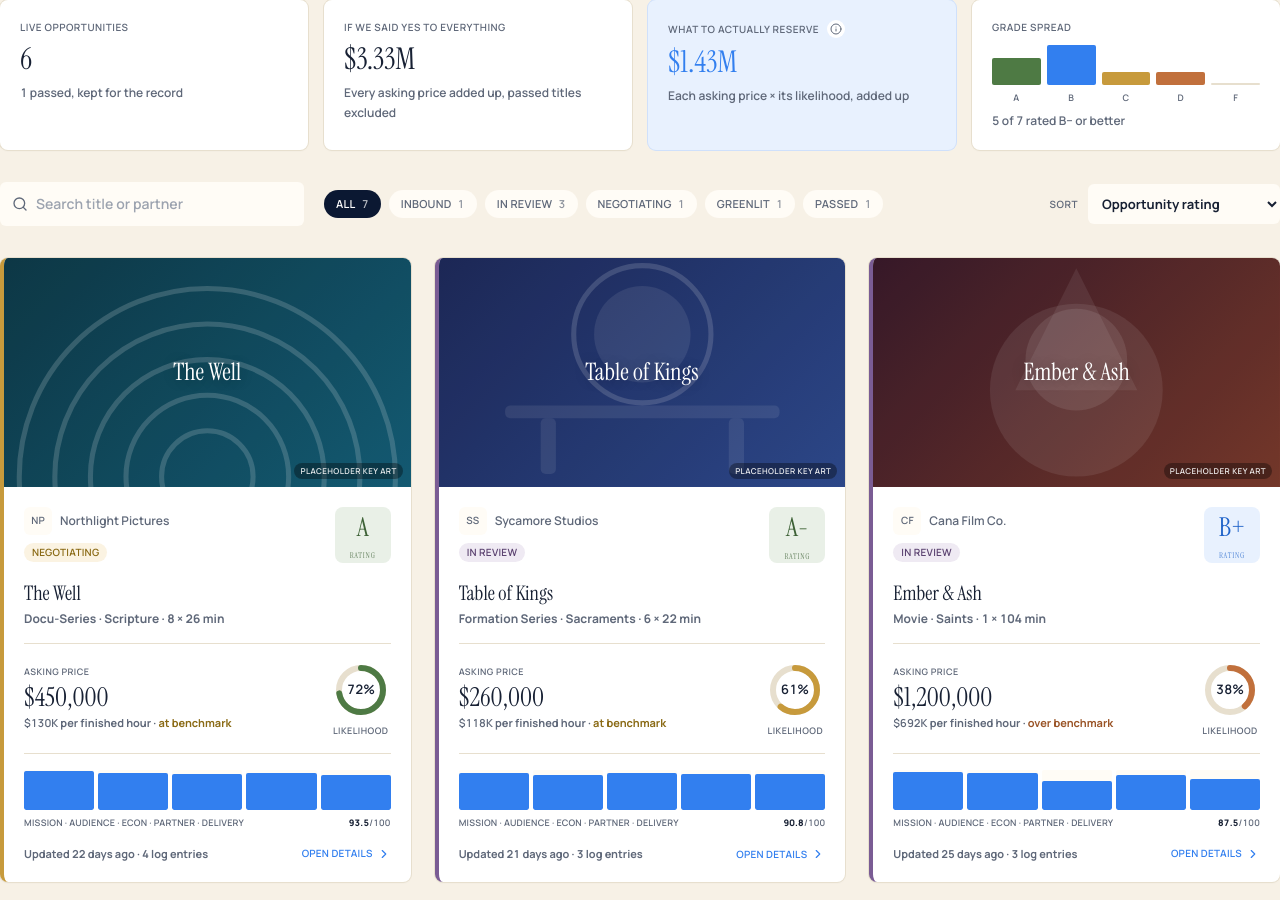
it: CoproductionSlate › opens one opportunity as a pop-out carrying its grade and reasoning
Click the button with aria-label "Open details for Table of Kings": (642, 570) [439, 258, 845, 882]
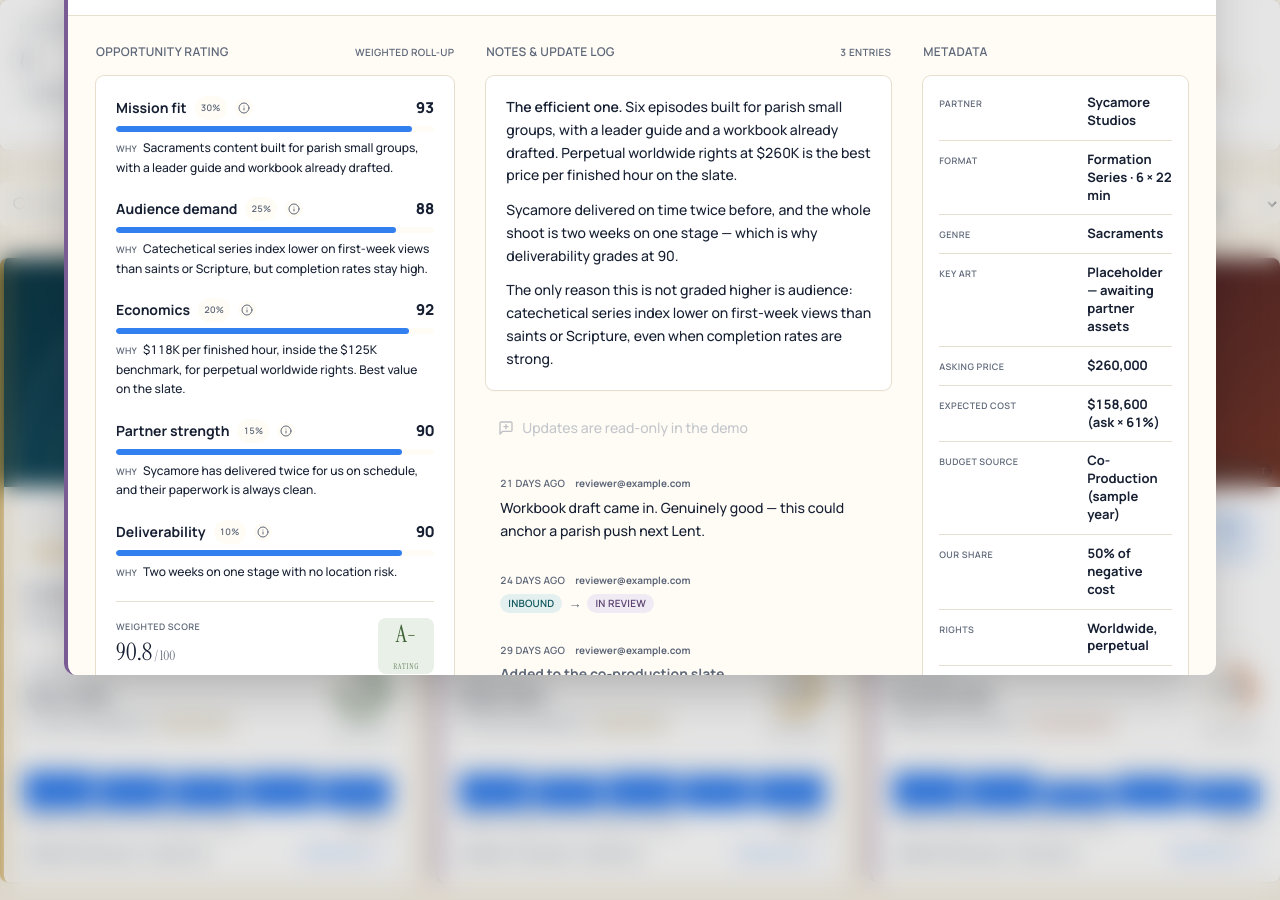
Now the text "90.8" is shown, box [116, 636, 152, 667]
Now the text "Two weeks on one stage with no location risk" is shown, box [143, 562, 397, 580]
